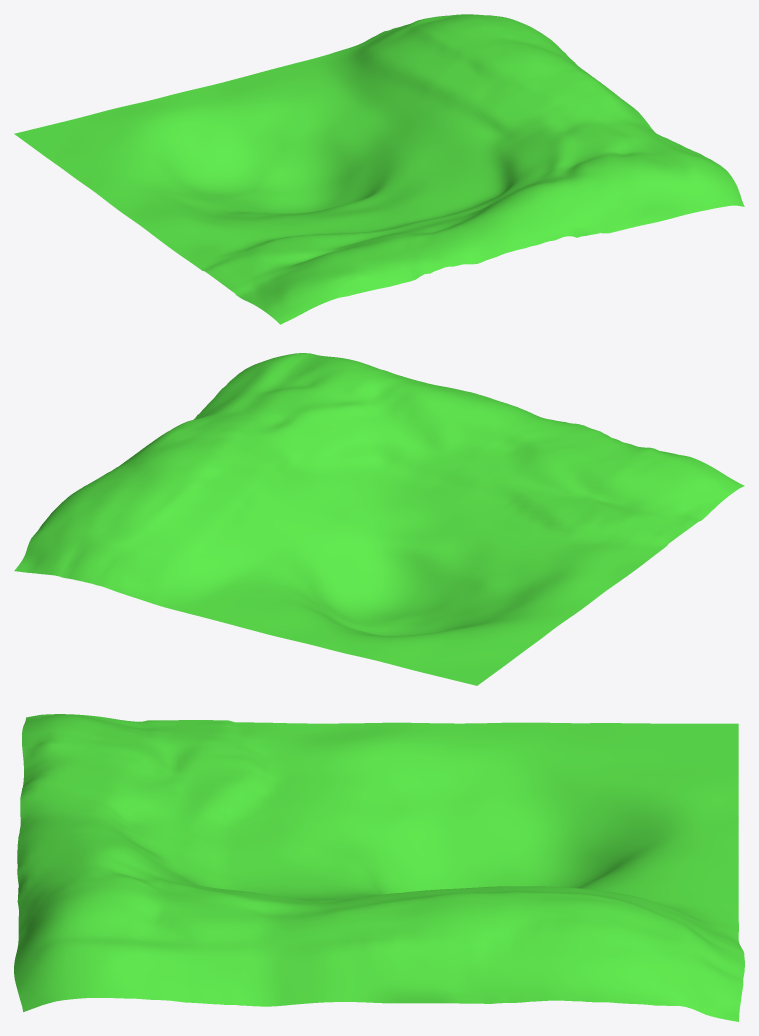
Rendered from terrain.glb.
3 views of the same model, one above another, from view 1: azimuth 30°, elevation 25°; view 2: azimuth 150°, elevation 25°; view 3: azimuth 270°, elevation 25° (orthographic). The views are drawn at different scales.
Parts seen in each view (by area): view 1: Grid; view 2: Grid; view 3: Grid.
Boxes of the visible parts, x1,y1,x2,y2 form: Grid: [14, 14, 744, 324]; Grid: [14, 353, 744, 685]; Grid: [14, 714, 744, 1021].
Bounding box in the file's own units: 206 × 42.08 × 205.
